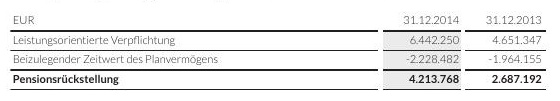table: (0, 0, 560, 101)
